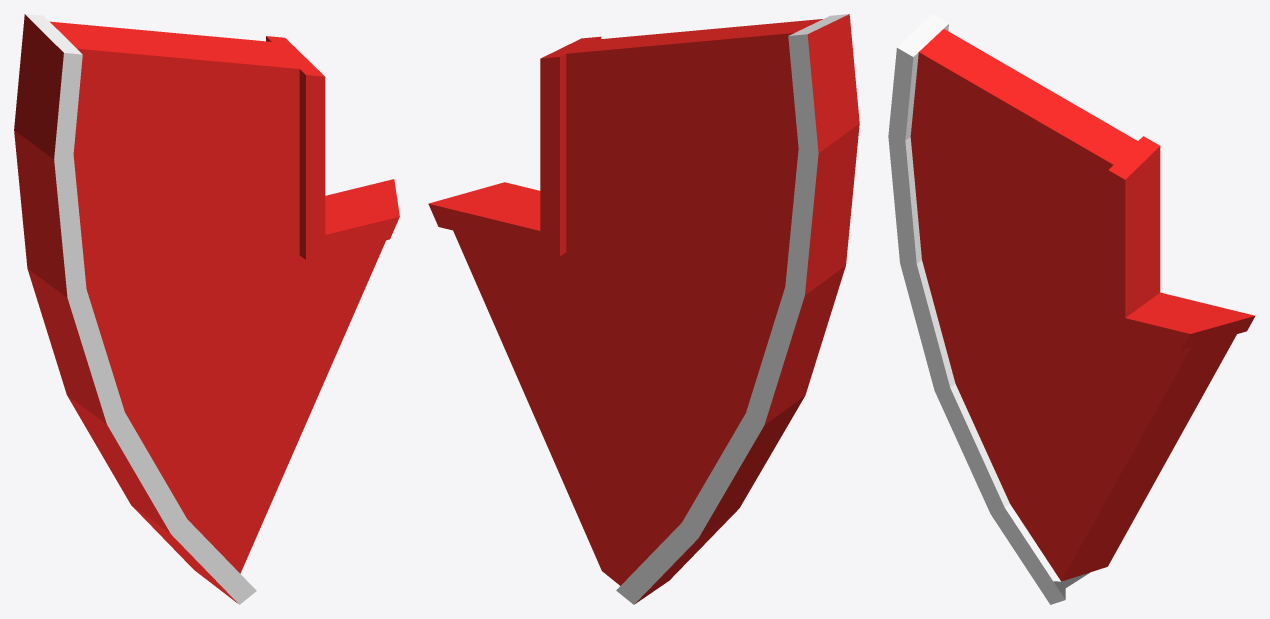
Rendered from StopRedSmallLeft.fbx.
3 views of the same model, side by side, from view 1: azimuth 30°, elevation 25°; view 2: azimuth 150°, elevation 25°; view 3: azimuth 330°, elevation 25° (orthographic). The views are drawn at different scales.
Parts seen in each view (by area): view 1: StopRedSmallRight; view 2: StopRedSmallRight; view 3: StopRedSmallRight.
Part boxes in pixels (box(x1,y1,x2,y2)): StopRedSmallRight: box(14, 14, 399, 604); StopRedSmallRight: box(428, 14, 859, 604); StopRedSmallRight: box(888, 14, 1255, 604).
Bounding box in the file's own units: 0.8561 × 1.3 × 0.1562.
